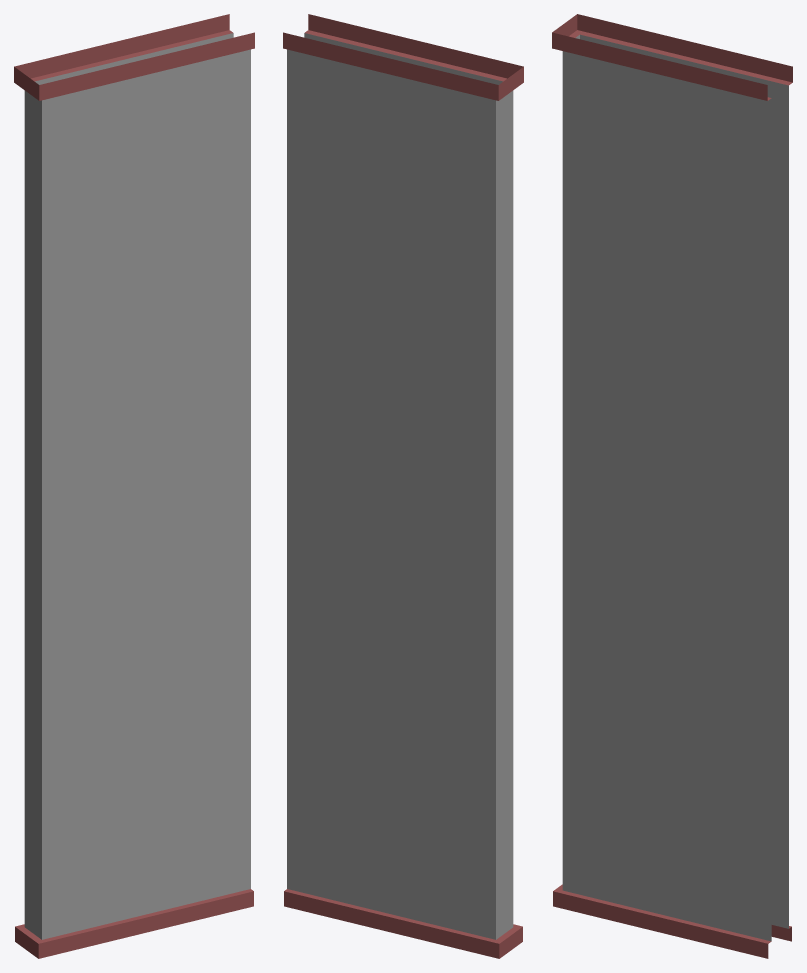
File: Prop_WallIntEnd_01.fbx
3 renders of one model, left to right at view 1: azimuth 30°, elevation 25°; view 2: azimuth 150°, elevation 25°; view 3: azimuth 330°, elevation 25°, orthographic.
Visible parts, largest first — view 1: Prop_WallEnd_01; view 2: Prop_WallEnd_01; view 3: Prop_WallEnd_01.
Part boxes in pixels (x1,y1,x2,y2): Prop_WallEnd_01: [14, 14, 254, 958]; Prop_WallEnd_01: [283, 14, 523, 958]; Prop_WallEnd_01: [552, 14, 792, 958].
Bounding box in the file's own units: 0.7737 × 3 × 0.1569.
